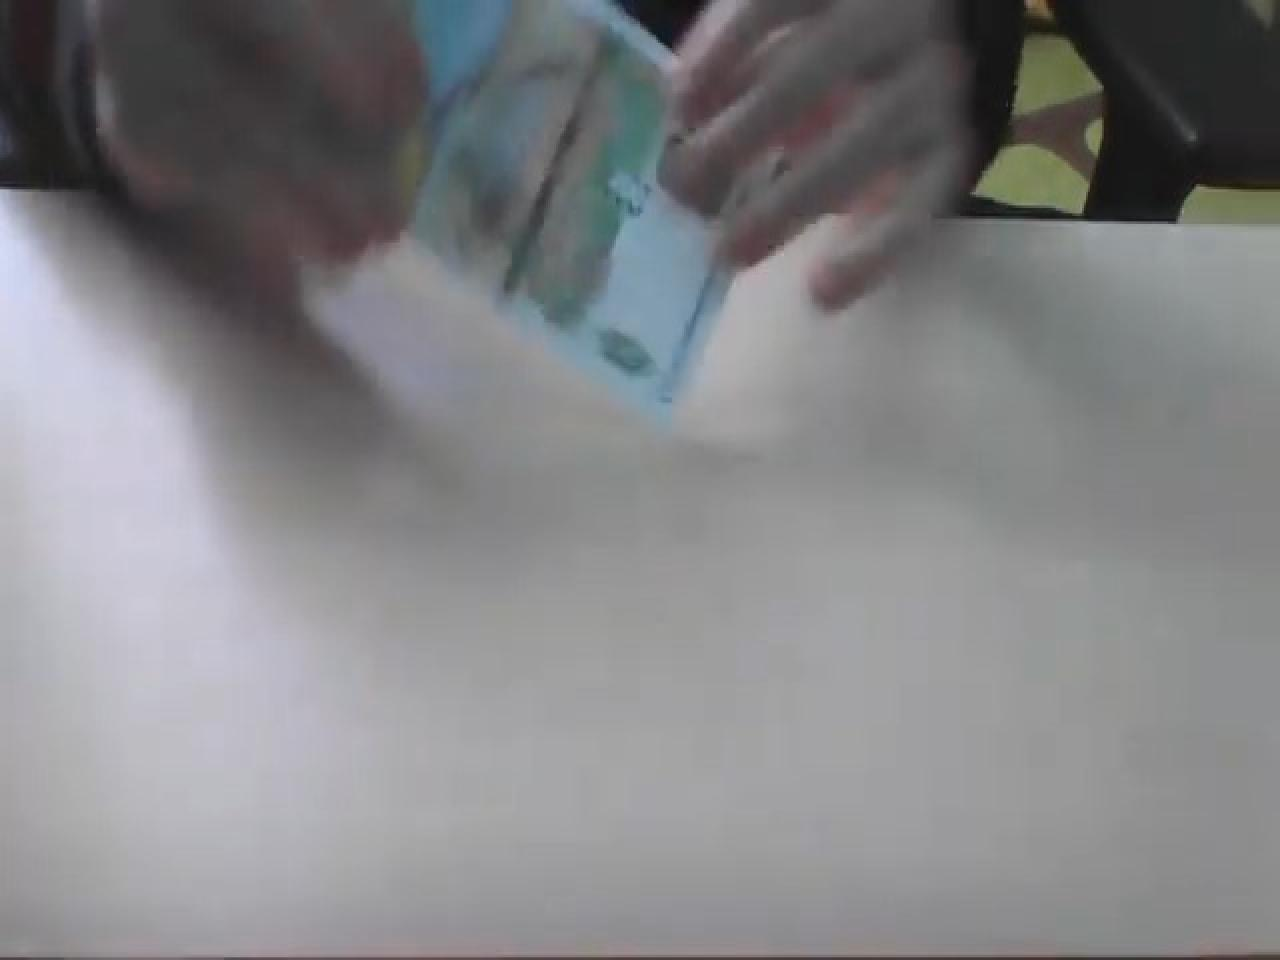100leva: (2, 3, 1274, 952)
